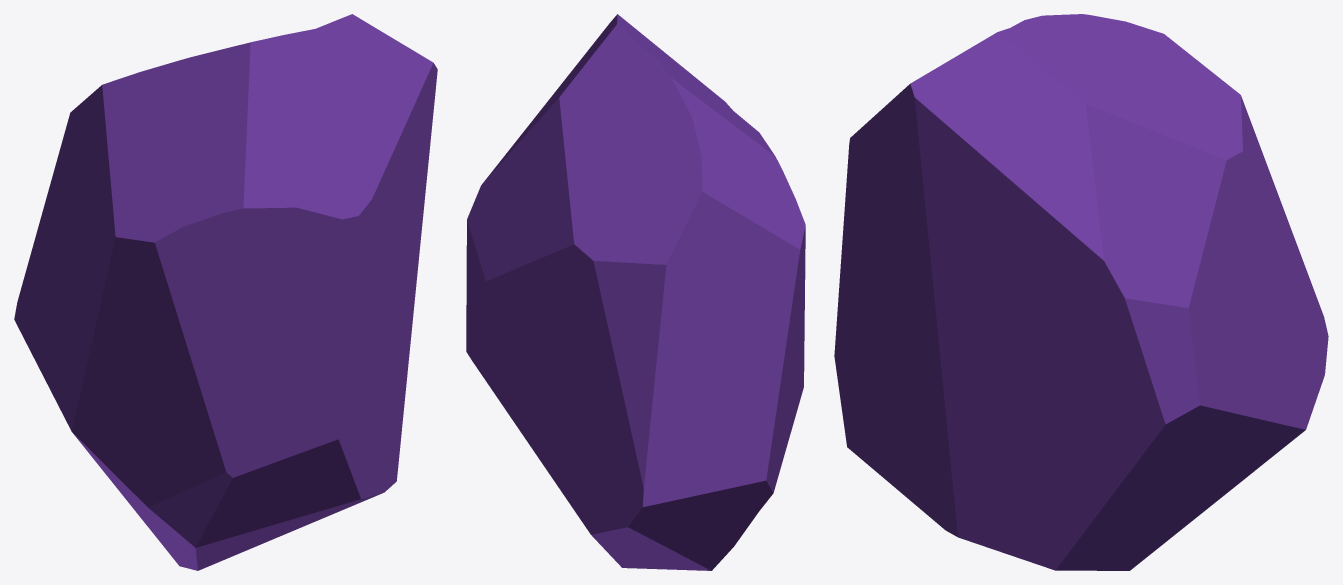
Rendered from rock6.fbx.
3 views of the same model, side by side, from view 1: azimuth 30°, elevation 25°; view 2: azimuth 150°, elevation 25°; view 3: azimuth 270°, elevation 25° (orthographic). The views are drawn at different scales.
Visible parts, largest first — view 1: Cube_007; view 2: Cube_007; view 3: Cube_007.
Boxes of the visible parts, bbox=[...] form: Cube_007: bbox=[14, 14, 437, 570]; Cube_007: bbox=[466, 14, 805, 570]; Cube_007: bbox=[834, 14, 1328, 570].
Bounding box in the file's own units: 2.31 × 3.65 × 2.81.
